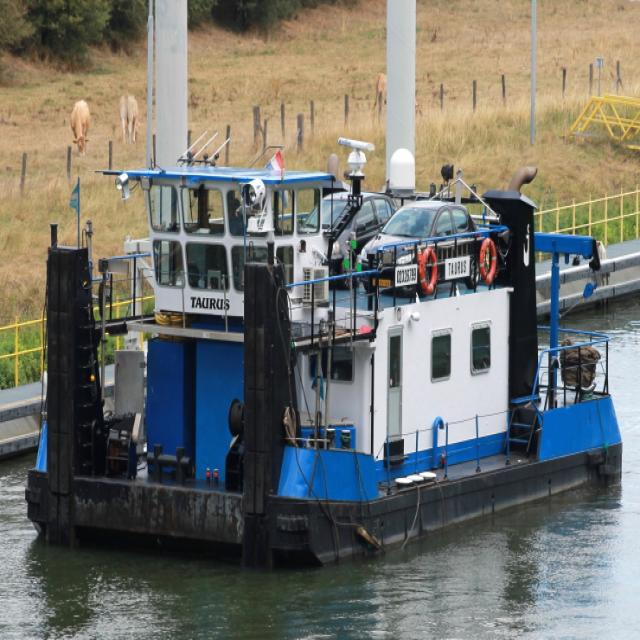tugboat: (21, 128, 627, 580)
